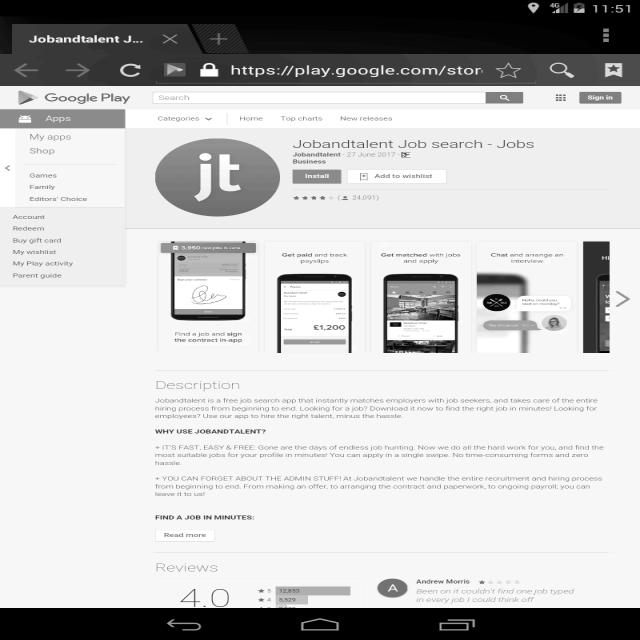Button: (152, 527, 222, 544), (574, 86, 627, 108), (288, 166, 346, 186)
EditText: (147, 89, 529, 107)
ImageButton: (542, 59, 582, 81), (489, 59, 526, 81), (597, 59, 634, 81), (113, 60, 147, 80), (9, 88, 42, 106), (594, 24, 618, 46), (62, 62, 95, 78)
ImageView: (271, 273, 573, 353), (145, 140, 284, 216), (162, 241, 252, 317)
TextView: (150, 396, 600, 426), (149, 474, 610, 498), (151, 442, 607, 464), (152, 378, 242, 392)
